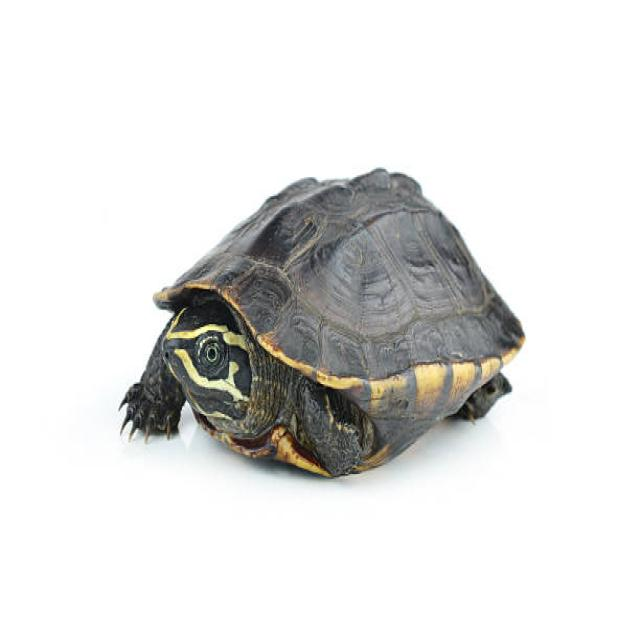terrapin: (94, 170, 550, 505), (140, 281, 286, 443)
